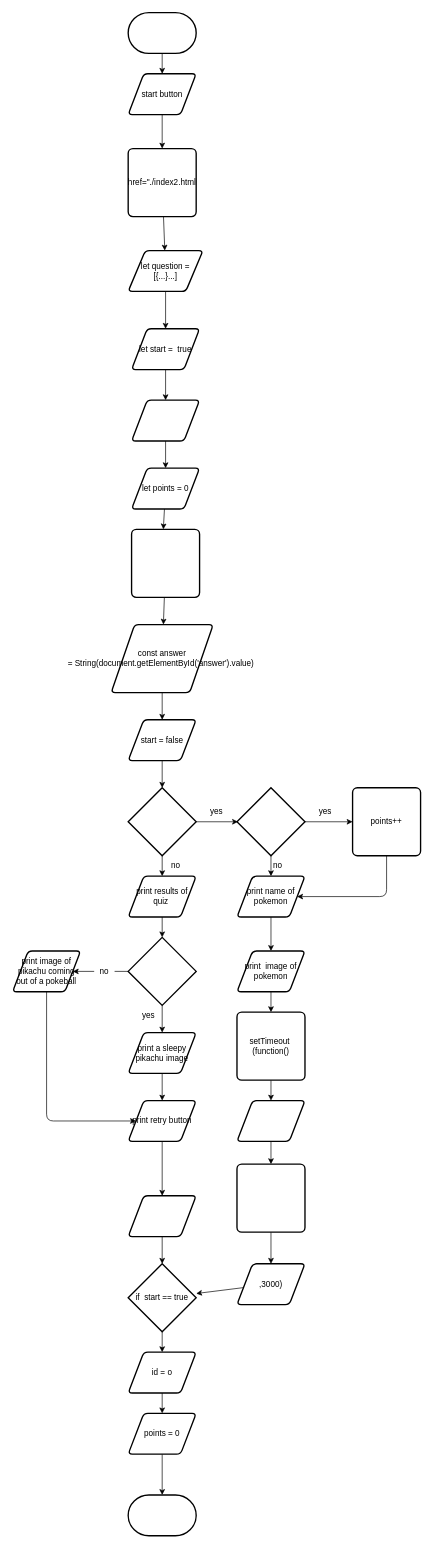
The diagram is 432 pixels wide and 1548 high, and some of its shapes have lost their labels. The box of each missing label's shape, as (x1, y1, x2, y2) in pixels:
function submitClicked(): (131, 528, 200, 598)
id++: (236, 1163, 305, 1232)
if answer == quation[id].answer: (236, 787, 305, 856)
if id < 10: (127, 787, 197, 856)
if point < 6: (127, 936, 197, 1006)
let id = 0: (131, 399, 200, 441)
print image of pokemon silhouette: (236, 1100, 305, 1142)
start: (127, 12, 197, 54)
start = true: (127, 1195, 197, 1237)
stop: (127, 1494, 197, 1536)
